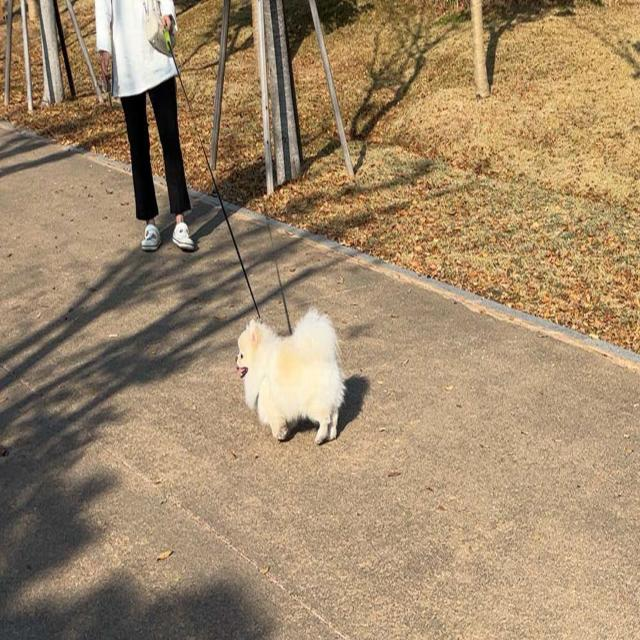Leashed_Dog: (155, 12, 346, 447)
